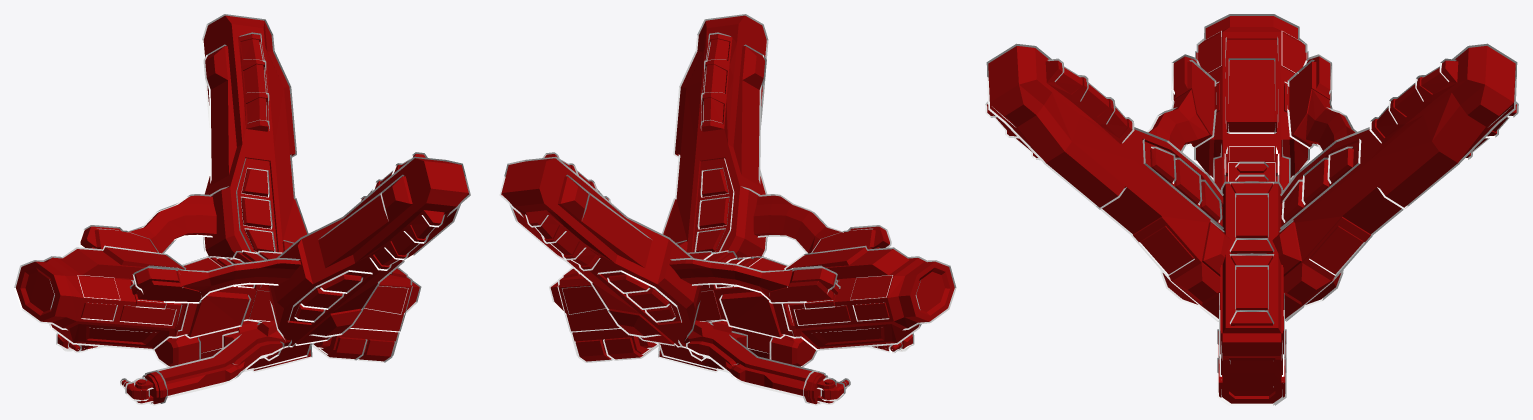
The model's file is ship6_red.glb.
The picture shows the model from 3 angles, left to right: view 1: azimuth 30°, elevation 25°; view 2: azimuth 150°, elevation 25°; view 3: azimuth 270°, elevation 25°; orthographic projection. The views are drawn at different scales.
Parts seen in each view (by area): view 1: ME_ship_IndexedFaceSet; view 2: ME_ship_IndexedFaceSet; view 3: ME_ship_IndexedFaceSet.
Part boxes in pixels (x1,y1,x2,y2): ME_ship_IndexedFaceSet: (14,14,470,405); ME_ship_IndexedFaceSet: (499,14,956,405); ME_ship_IndexedFaceSet: (985,14,1518,405).
Bounding box in the file's own units: 484 × 344 × 500.
